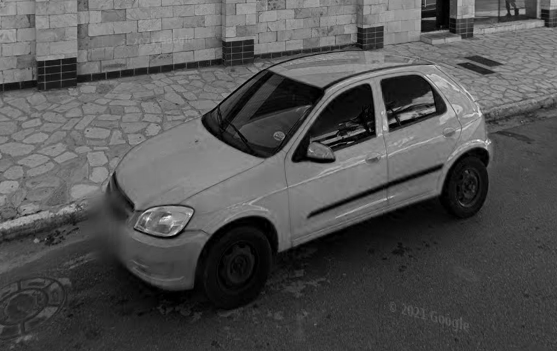car: (94, 46, 496, 316)
